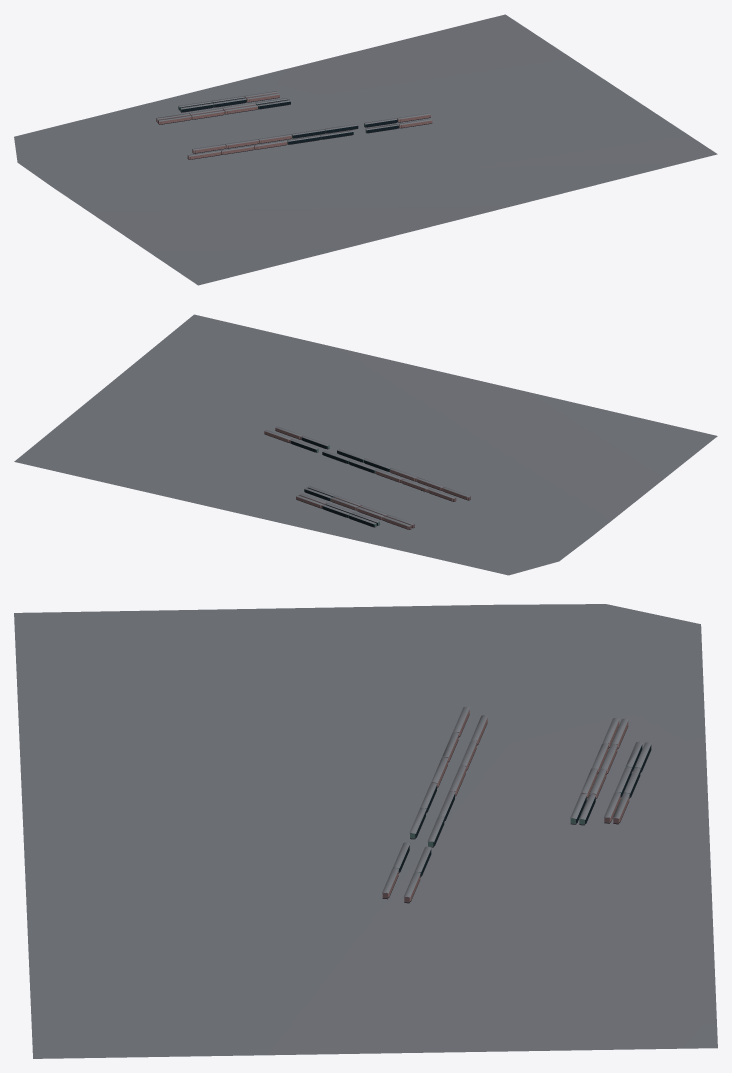
Rendered from chattanooga-choo-chooo-train-cars.glb.
3 views of the same model, one above another, from view 1: azimuth 30°, elevation 25°; view 2: azimuth 150°, elevation 25°; view 3: azimuth 270°, elevation 25° (orthographic). The views are drawn at different scales.
Visible parts, largest first — view 1: Geom3D; view 2: Geom3D; view 3: Geom3D.
Part boxes in pixels (bbox=[...]): Geom3D: bbox=[14, 14, 717, 285]; Geom3D: bbox=[14, 314, 717, 575]; Geom3D: bbox=[14, 604, 717, 1058].
Size of what is drawn, in the model's own units: 430 by 5.69 by 283.
1 material, 1 textured.
